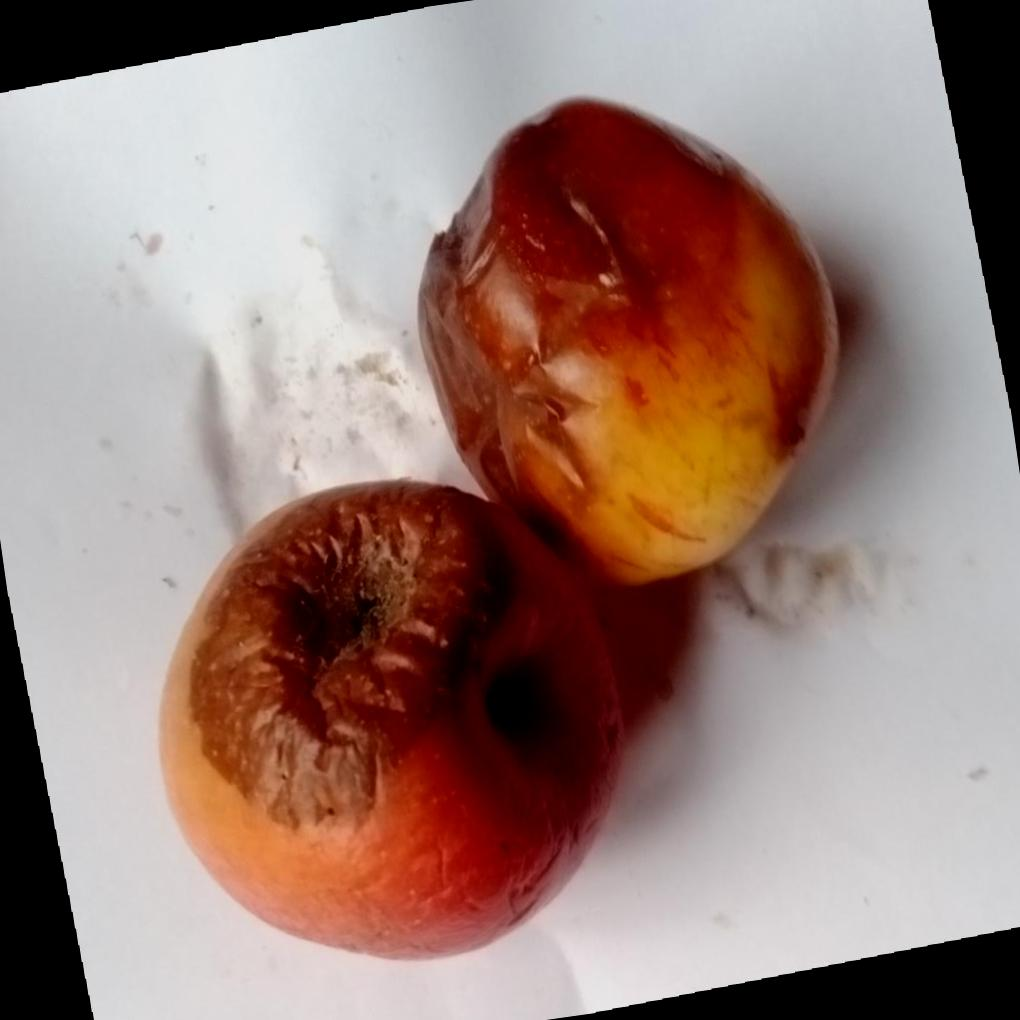FreshOrange: (178, 97, 837, 955)
